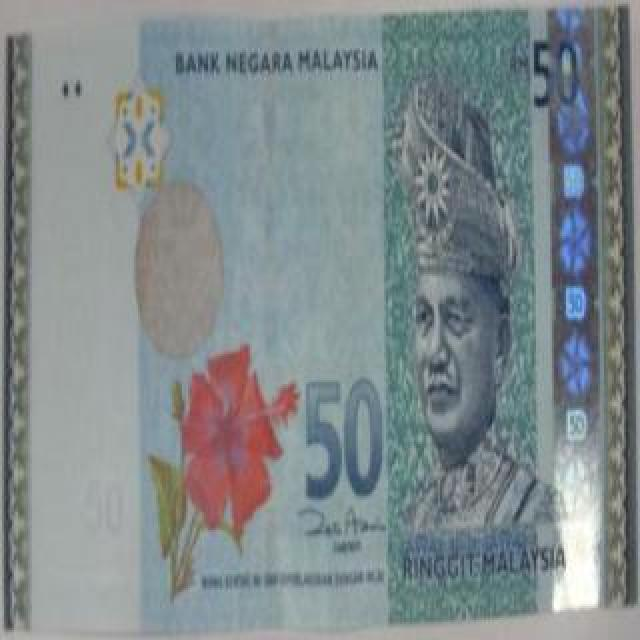50 Ringgit: (8, 8, 626, 635)
